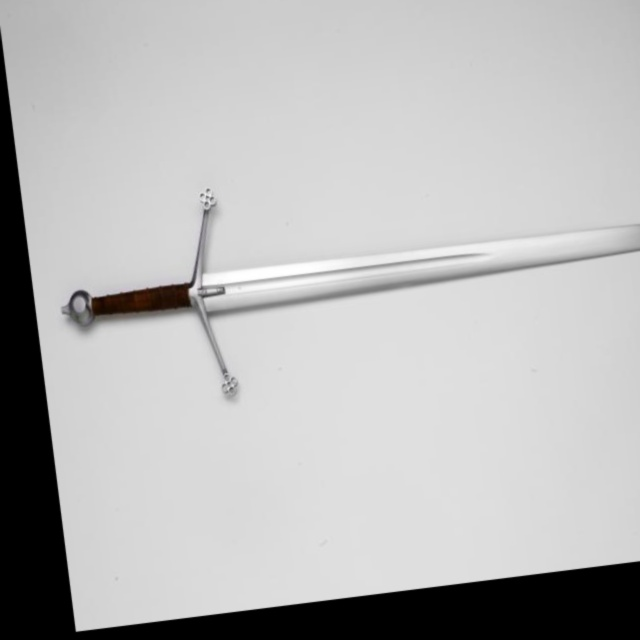Sharp-Object: (42, 200, 640, 352)
